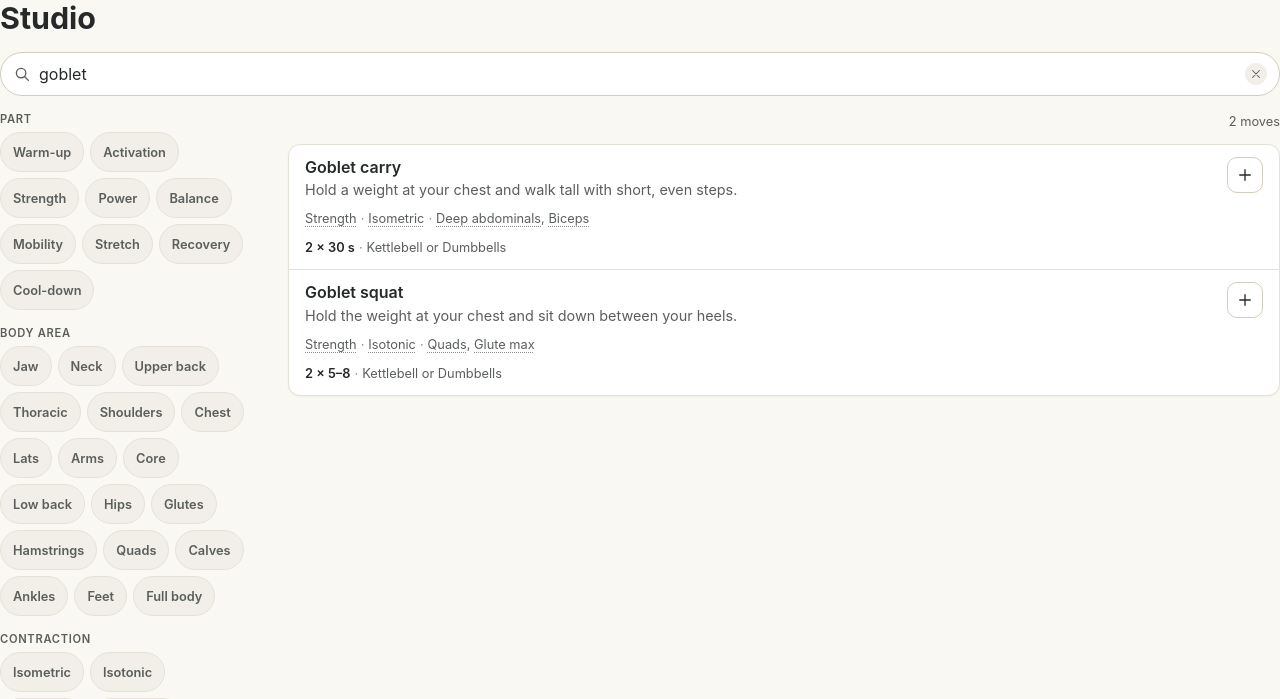
Test: on a phone: a sheet over the list › a row's tap opens the move as a dialog over the list; the list stays behind it
The image size is (1280, 699).
Step 1. Click the link with class "stu-move-open" showing "Goblet squat" → (354, 292), box [305,282,404,302]
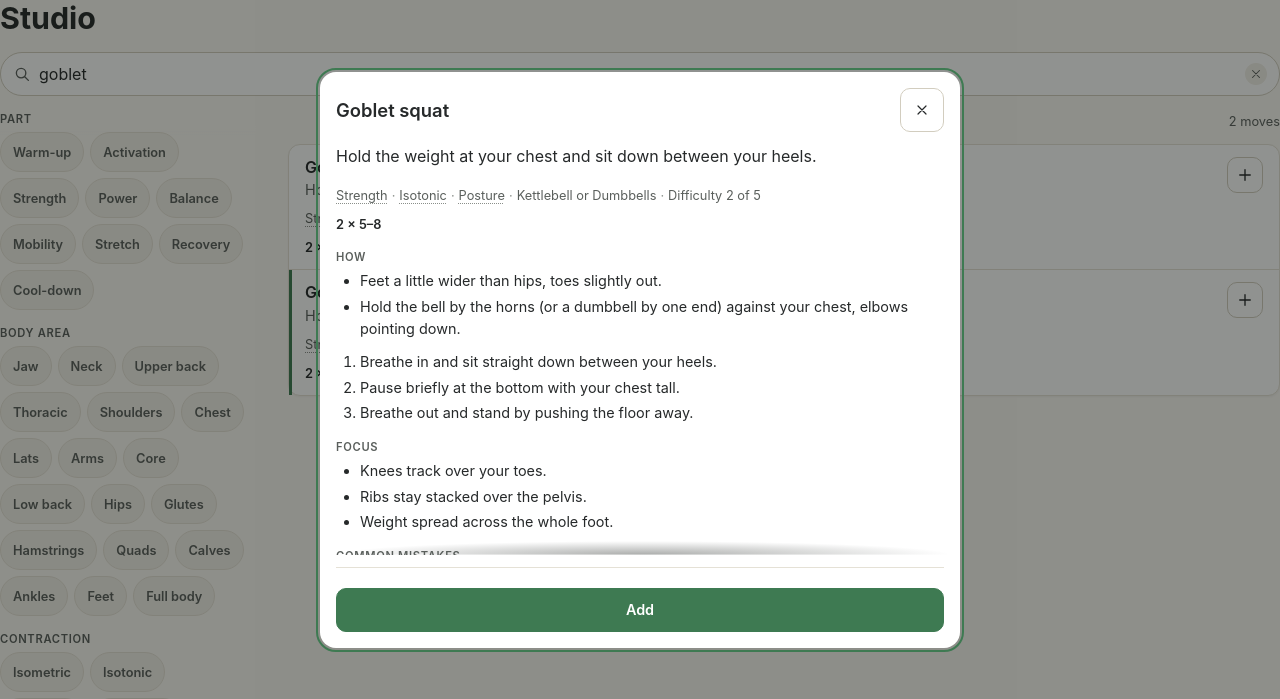
Expected: the list with class "stu-list" is shown, [288,144,1279,396]
Expected: the heading "Goblet squat" is shown, [336,98,449,122]
